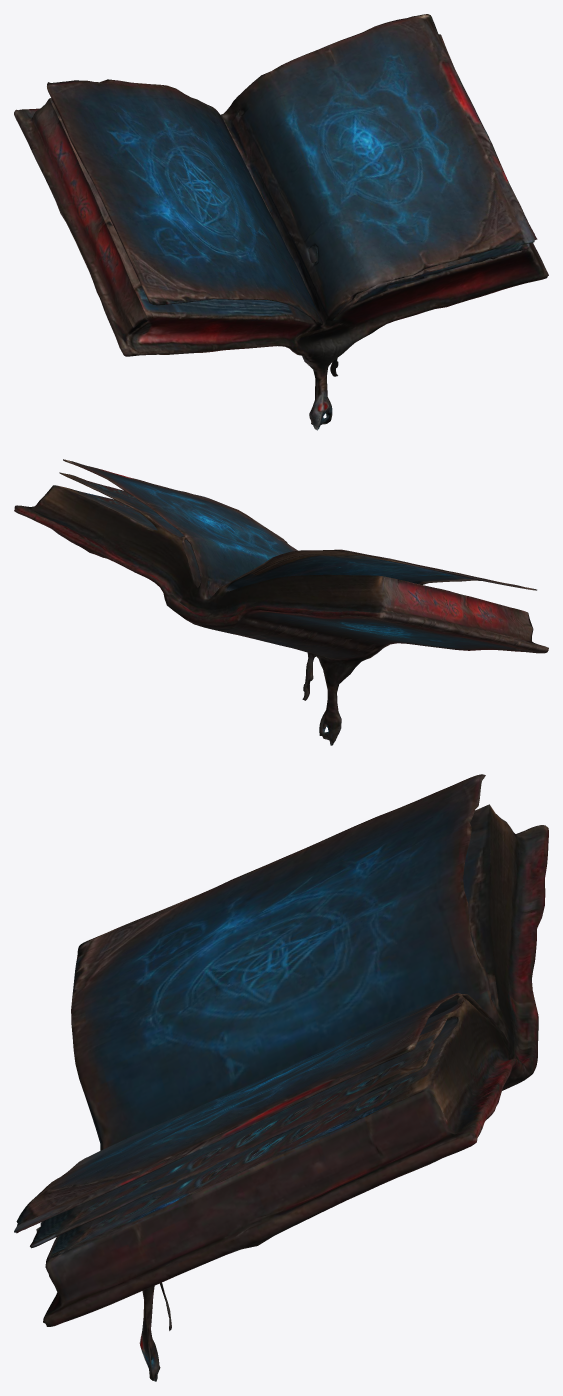
Rendered from book.glb.
3 views of the same model, one above another, from view 1: azimuth 30°, elevation 25°; view 2: azimuth 150°, elevation 25°; view 3: azimuth 270°, elevation 25° (orthographic). The views are drawn at different scales.
Parts seen in each view (by area): view 1: Mesh0; view 2: Mesh0; view 3: Mesh0.
Part boxes in pixels (bbox=[...]): Mesh0: bbox=[14, 14, 548, 430]; Mesh0: bbox=[14, 459, 548, 745]; Mesh0: bbox=[14, 774, 548, 1381].
Size of the model in its own units: 2 by 1.37 by 1.37.
Materials: 1 (1 with a texture image).
